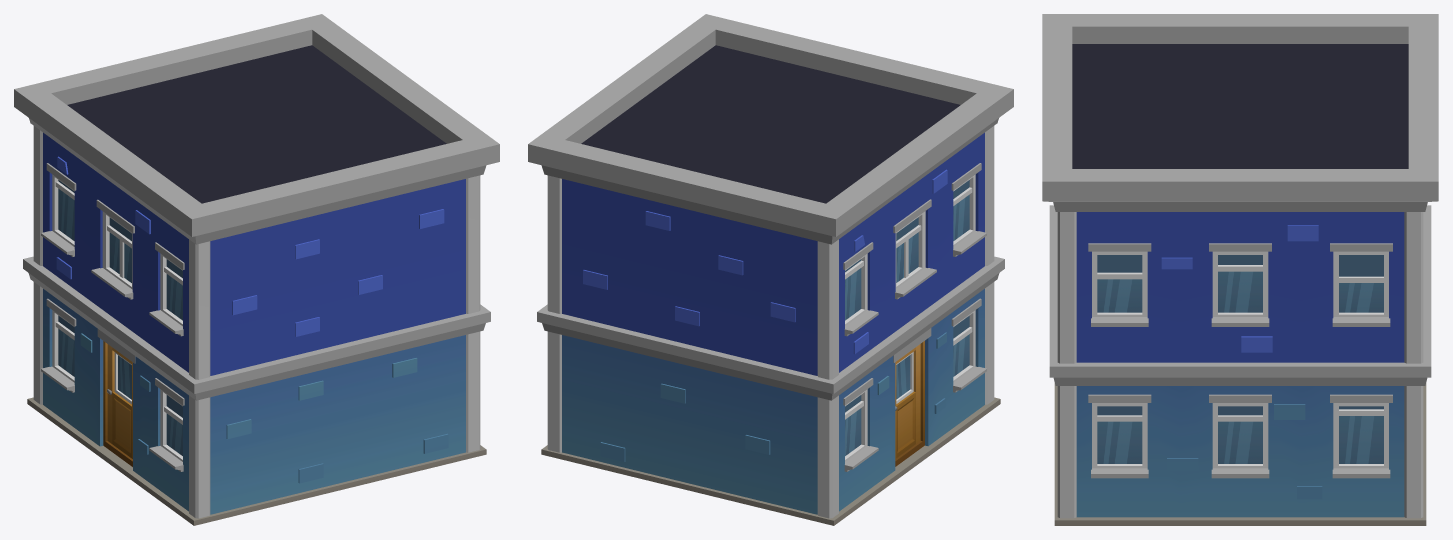
The model's file is Building_2_3_C.fbx.
3 views of the same model, side by side, from view 1: azimuth 30°, elevation 25°; view 2: azimuth 150°, elevation 25°; view 3: azimuth 270°, elevation 25° (orthographic). The views are drawn at different scales.
Visible parts, largest first — view 1: Building_2_3_C; view 2: Building_2_3_C; view 3: Building_2_3_C.
Part boxes in pixels (box(x1,y1,x2,y2)): Building_2_3_C: box(14, 14, 499, 525); Building_2_3_C: box(528, 14, 1013, 525); Building_2_3_C: box(1042, 14, 1438, 525).
Bounding box in the file's own units: 620 × 602 × 620.
